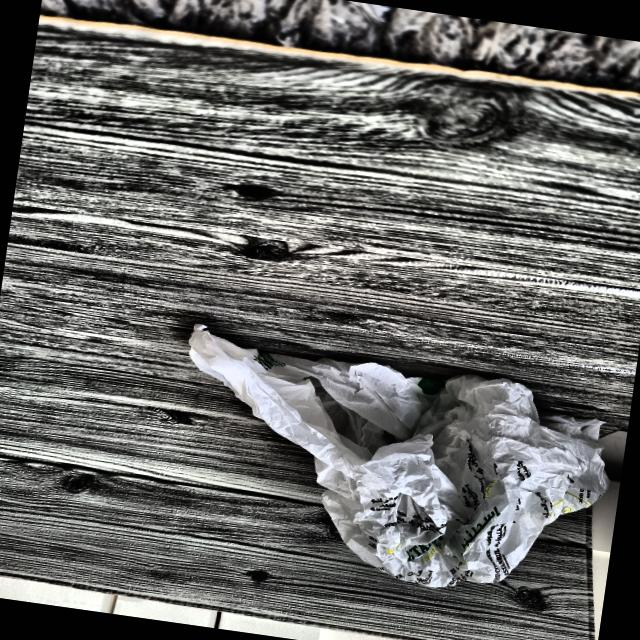plastic bag: (155, 330, 618, 613)
